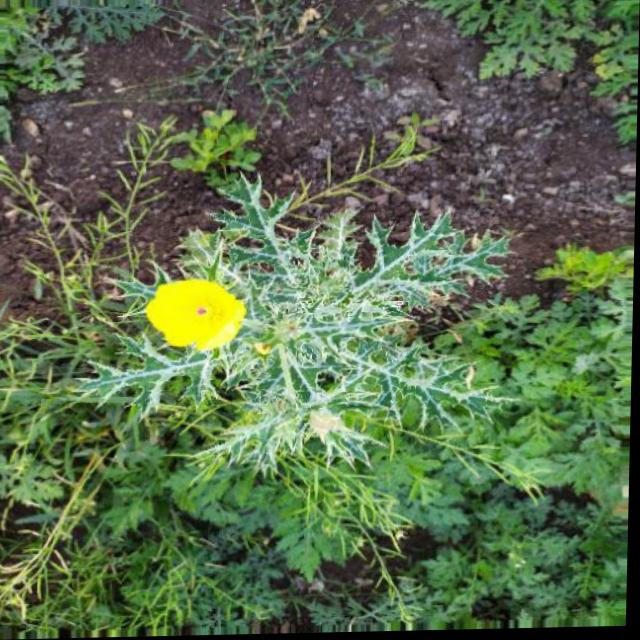weed: (18, 211, 607, 617)
